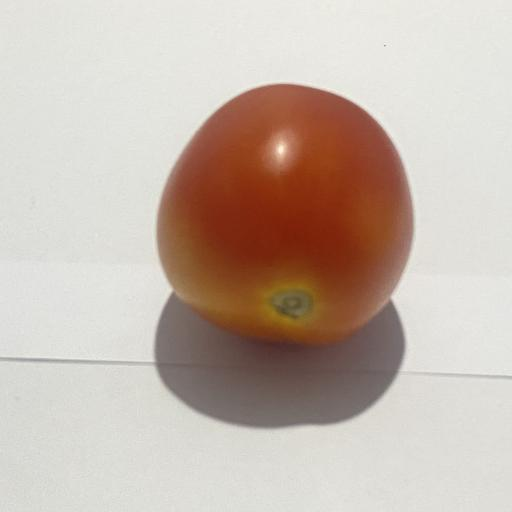ripe: (157, 84, 413, 344)
